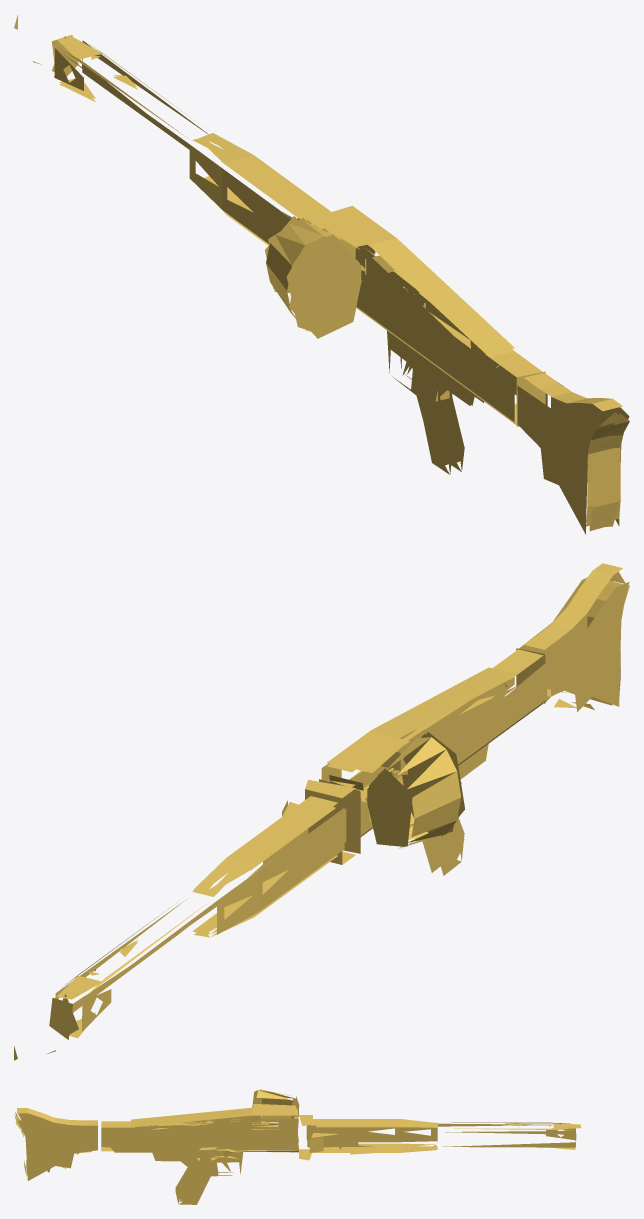
The model's file is charm_mst_lmg_1.glb.
The picture shows the model from 3 angles, top to bottom: view 1: azimuth 30°, elevation 25°; view 2: azimuth 150°, elevation 25°; view 3: azimuth 270°, elevation 25°; orthographic projection. The views are drawn at different scales.
Visible parts, largest first — view 1: p0_paint; view 2: p0_paint; view 3: p0_paint.
Part boxes in pixels (box(x1,y1,x2,y2)): p0_paint: box(14, 15, 629, 534); p0_paint: box(14, 563, 629, 1060); p0_paint: box(14, 1089, 581, 1204).
Size of the model in its own units: 0.1454 by 0.2115 by 1.18.
